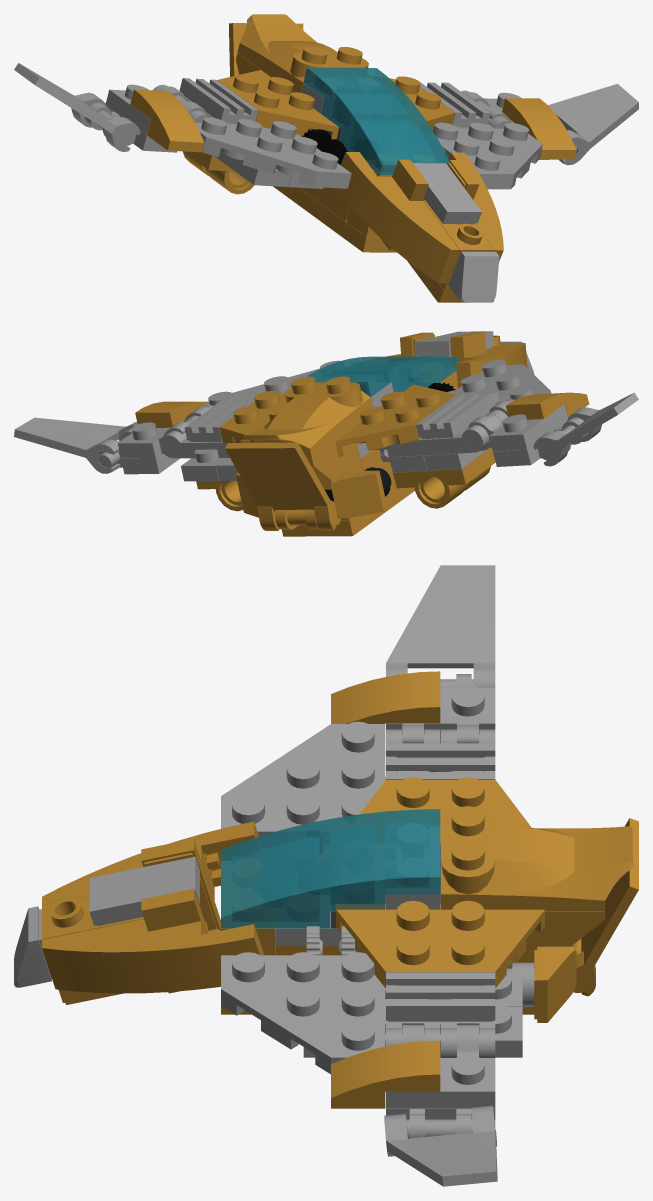
File: The Avengers Quinjet.dae
The picture shows the model from 3 angles, top to bottom: view 1: azimuth 30°, elevation 25°; view 2: azimuth 150°, elevation 25°; view 3: azimuth 270°, elevation 25°; orthographic projection. The views are drawn at different scales.
Visible parts, largest first — view 1: Part_93606.18, Part_61678.48, Part_2450.34, Part_47456.19, Part_2450.22, Part_51739.37, Part_44676.30, Part_11477.41, Part_11477.29, Part_3069.51, Part_44676.42, Part_54200.52 (+17 smaller); view 2: Part_60779.16, Part_47456.19, Part_51739.37, Part_93606.18, Part_44676.30, Part_2817.43, Part_2450.34, Part_60470.39, Part_54200.14, Part_2412.38, Part_44676.42, Part_60478.35 (+24 smaller); view 3: Part_93606.18, Part_47456.19, Part_2450.22, Part_61678.47, Part_51739.25, Part_2450.34, Part_44676.42, Part_11477.29, Part_44676.30, Part_2412.26, Part_11477.41, Part_51739.37 (+18 smaller).
Boxes of the visible parts, x1,y1,x2,y2 form: Part_93606.18: (303, 67, 449, 174); Part_61678.48: (335, 152, 459, 283); Part_2450.34: (195, 117, 351, 188); Part_47456.19: (237, 14, 368, 92); Part_2450.22: (433, 122, 542, 189); Part_51739.37: (217, 70, 338, 139); Part_44676.30: (548, 84, 638, 165); Part_11477.41: (130, 89, 204, 152); Part_11477.29: (502, 98, 576, 159); Part_3069.51: (413, 163, 481, 224); Part_44676.42: (14, 63, 140, 151); Part_54200.52: (448, 251, 499, 302); Part_60779.16: (225, 442, 336, 530); Part_47456.19: (240, 376, 372, 458); Part_51739.37: (335, 384, 456, 456); Part_93606.18: (306, 356, 459, 397); Part_44676.30: (14, 417, 137, 473); Part_2817.43: (393, 447, 495, 508); Part_2450.34: (447, 359, 551, 404); Part_60470.39: (468, 400, 567, 451); Part_54200.14: (331, 470, 387, 518); Part_2412.38: (416, 392, 494, 439); Part_44676.42: (533, 392, 638, 466); Part_60478.35: (386, 414, 502, 457); Part_93606.18: (221, 809, 440, 928); Part_47456.19: (441, 806, 632, 911); Part_2450.22: (221, 952, 385, 1074); Part_61678.47: (42, 919, 263, 993); Part_51739.25: (336, 900, 544, 988); Part_2450.34: (221, 721, 385, 836); Part_44676.42: (386, 565, 495, 687); Part_11477.29: (331, 1040, 440, 1108); Part_44676.30: (384, 1105, 497, 1186); Part_2412.26: (386, 972, 495, 1021); Part_11477.41: (331, 671, 440, 723); Part_51739.37: (359, 777, 531, 843).
Bounding box in the file's own units: 134 × 41.78 × 91.01.
